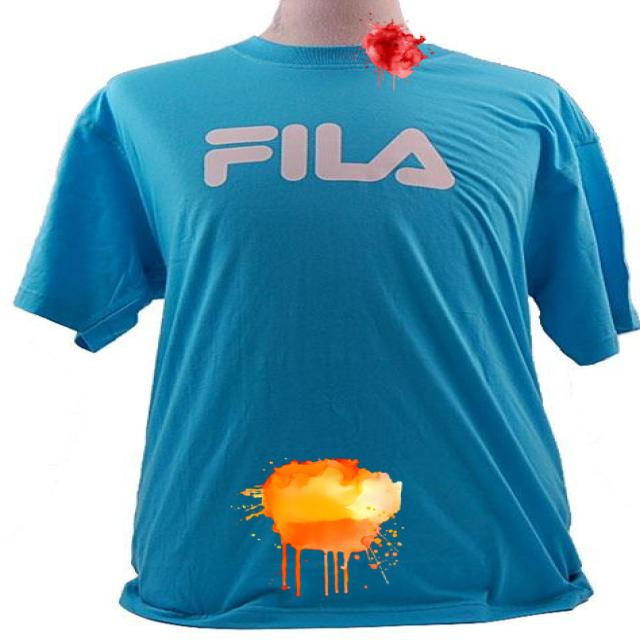stain: (241, 457, 413, 599), (356, 21, 434, 88)
